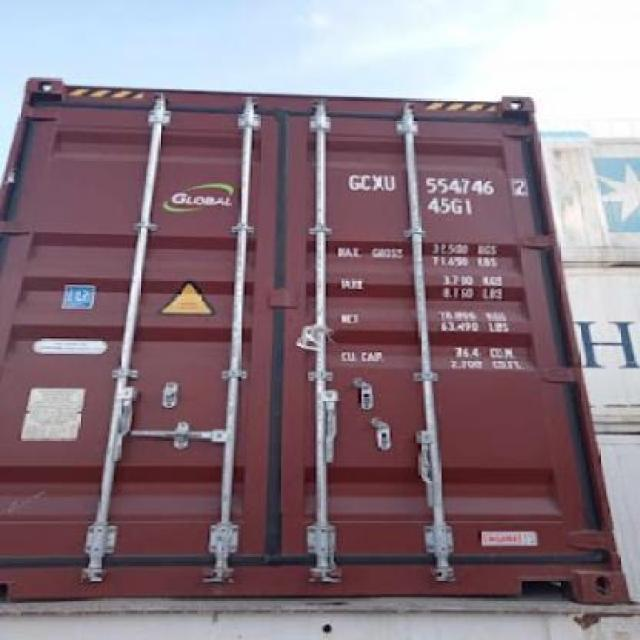ISO: (426, 196, 474, 216)
container_number: (348, 167, 524, 195)
